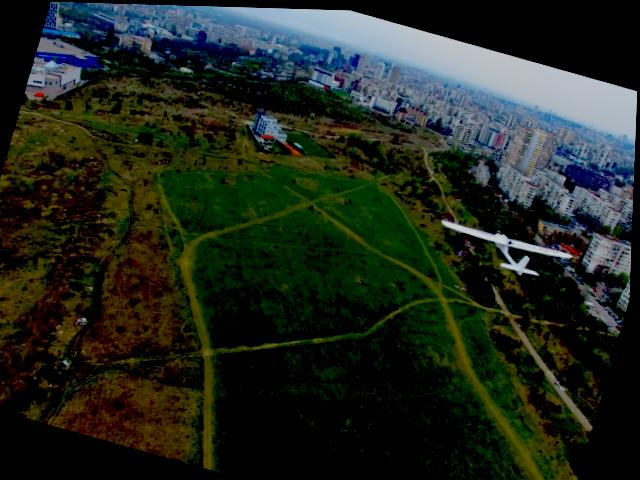plane: (435, 211, 579, 280)
